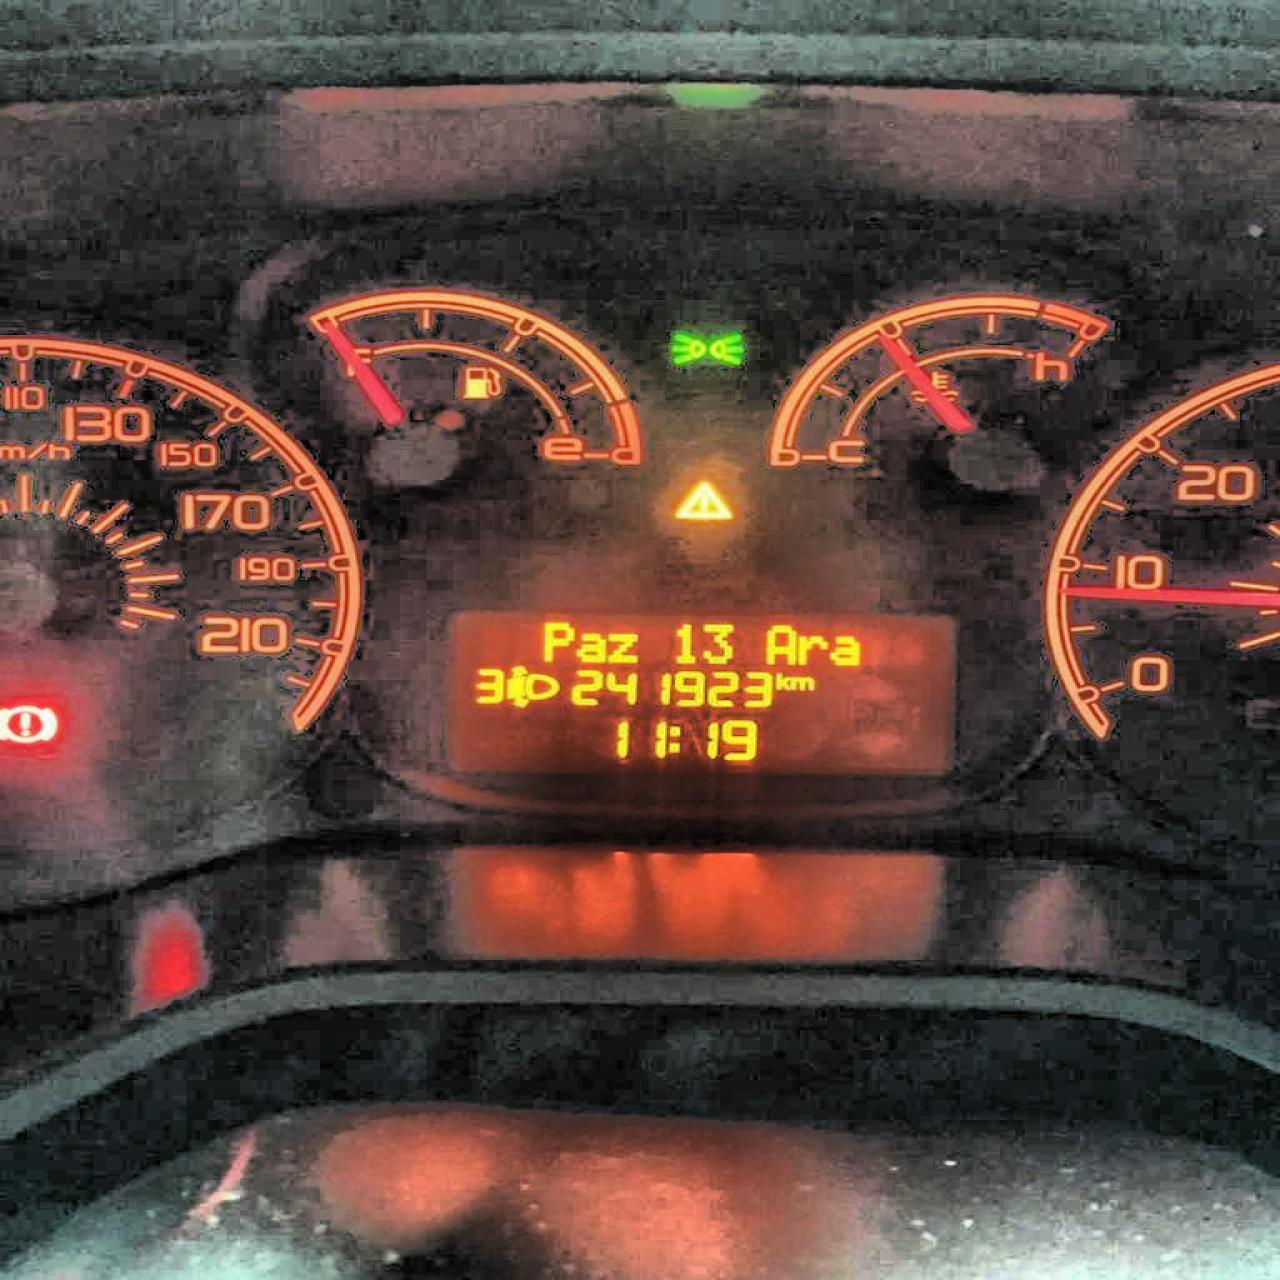1: (668, 620, 695, 665), (612, 716, 631, 765), (652, 715, 667, 760), (655, 667, 672, 708), (704, 717, 719, 763)
2: (704, 670, 738, 710), (568, 667, 601, 707)
3: (700, 620, 735, 666), (743, 667, 771, 712), (471, 663, 502, 704)
4: (604, 669, 639, 707)
9: (720, 717, 757, 762), (673, 667, 704, 708)
X: (539, 619, 573, 665), (765, 621, 797, 662), (830, 631, 863, 668), (607, 629, 640, 663), (576, 628, 607, 663), (795, 634, 825, 663), (667, 722, 683, 756), (788, 673, 815, 692), (775, 670, 788, 690)
odometer: (445, 604, 960, 779)
